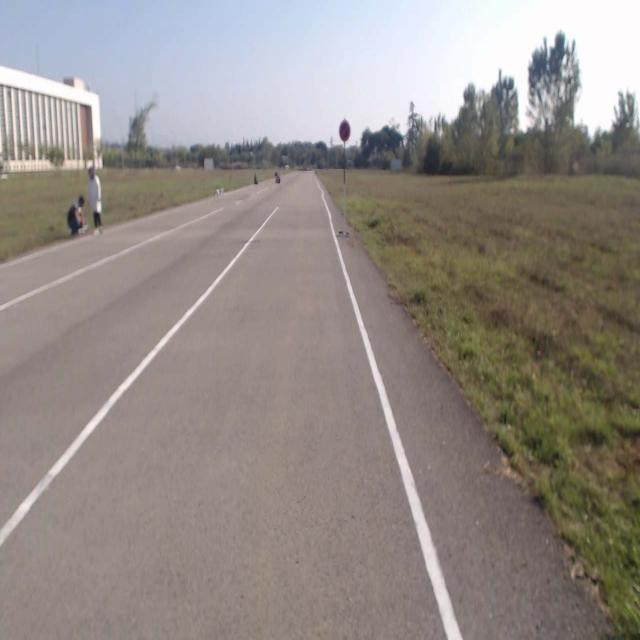parkyasak: (340, 120, 350, 140)
